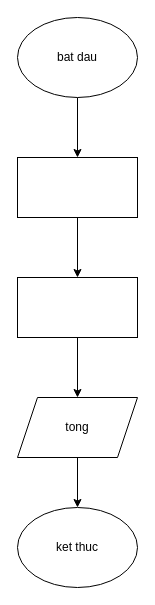
The diagram is 155 pixels wide and 605 high, and some of its shapes have lost their labels. Here are the shapes that lost their labels. From the top down, the centre of each, then its label:
pixel 77 187: a,b
pixel 77 307: sum=a+b
